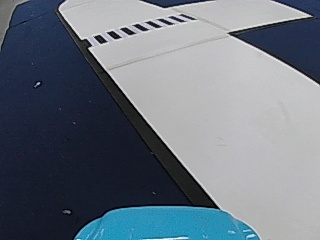CrossWalk: (85, 14, 190, 47)
